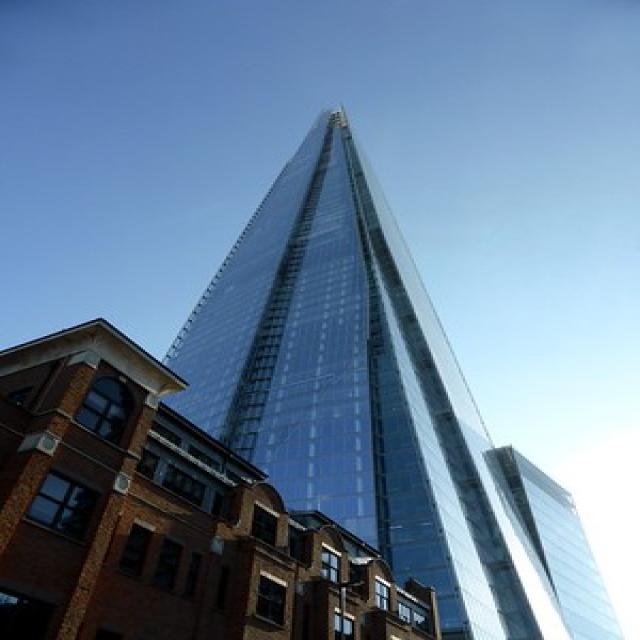building: (123, 103, 581, 639)
